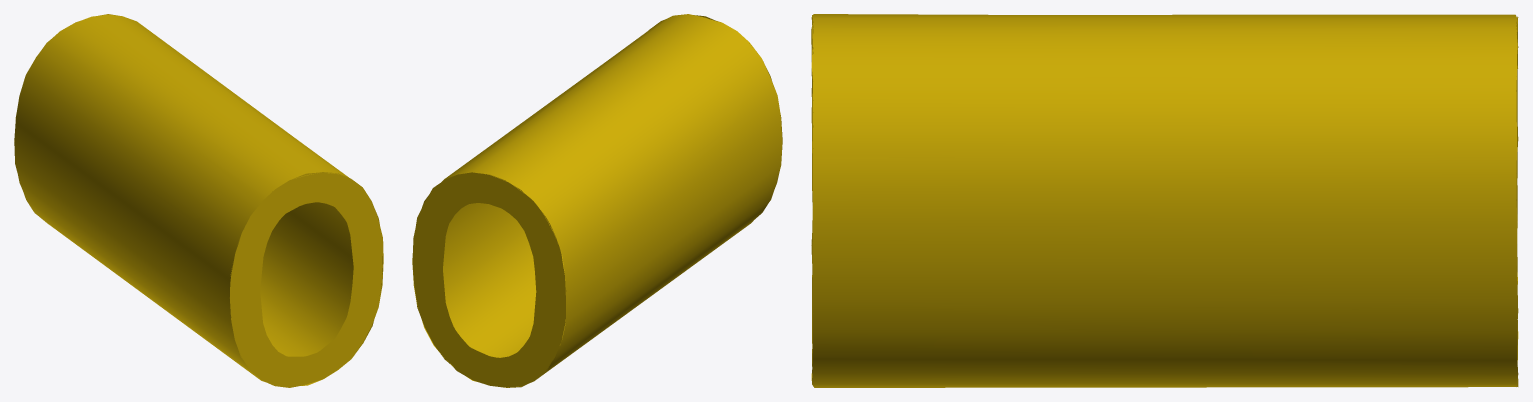
The model's file is original_2.obj.
3 views of the same model, side by side, from view 1: azimuth 30°, elevation 25°; view 2: azimuth 150°, elevation 25°; view 3: azimuth 270°, elevation 25° (orthographic). The views are drawn at different scales.
Parts seen in each view (by area): view 1: #ID13; view 2: #ID13; view 3: #ID13.
Part boxes in pixels (x1,y1,x2,y2): #ID13: [14, 14, 383, 387]; #ID13: [412, 14, 782, 387]; #ID13: [811, 14, 1518, 387].
Bounding box in the file's own units: 0.032 × 0.0419 × 0.0775.
